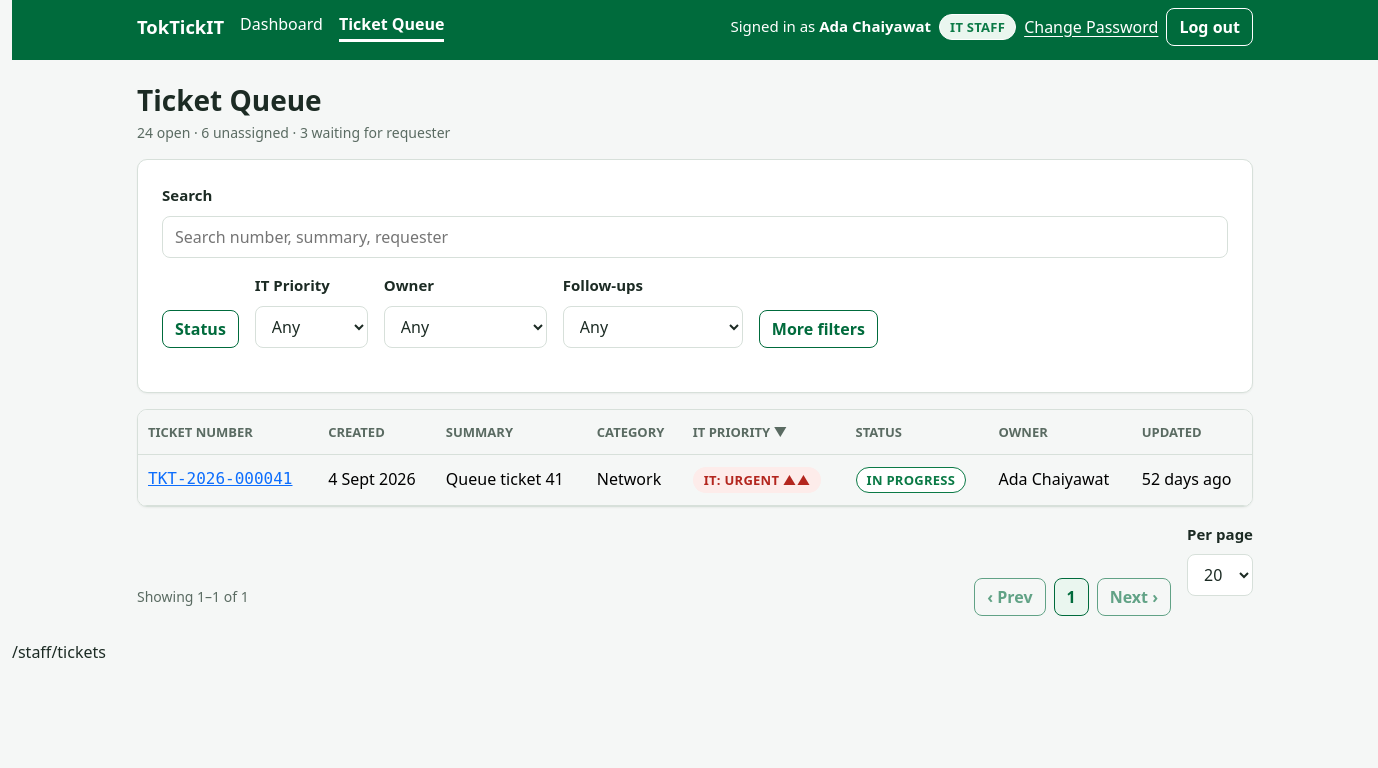
Scenario: Queue states (ui-spec §7.5, FR-22) › shows a failure with Try again and never a stale list
Check: the table is shown, box 138,410 -> 1252,506
Select "LOW" in the dropdown labelled "IT Priority": (311, 327) 255,306 -> 368,348
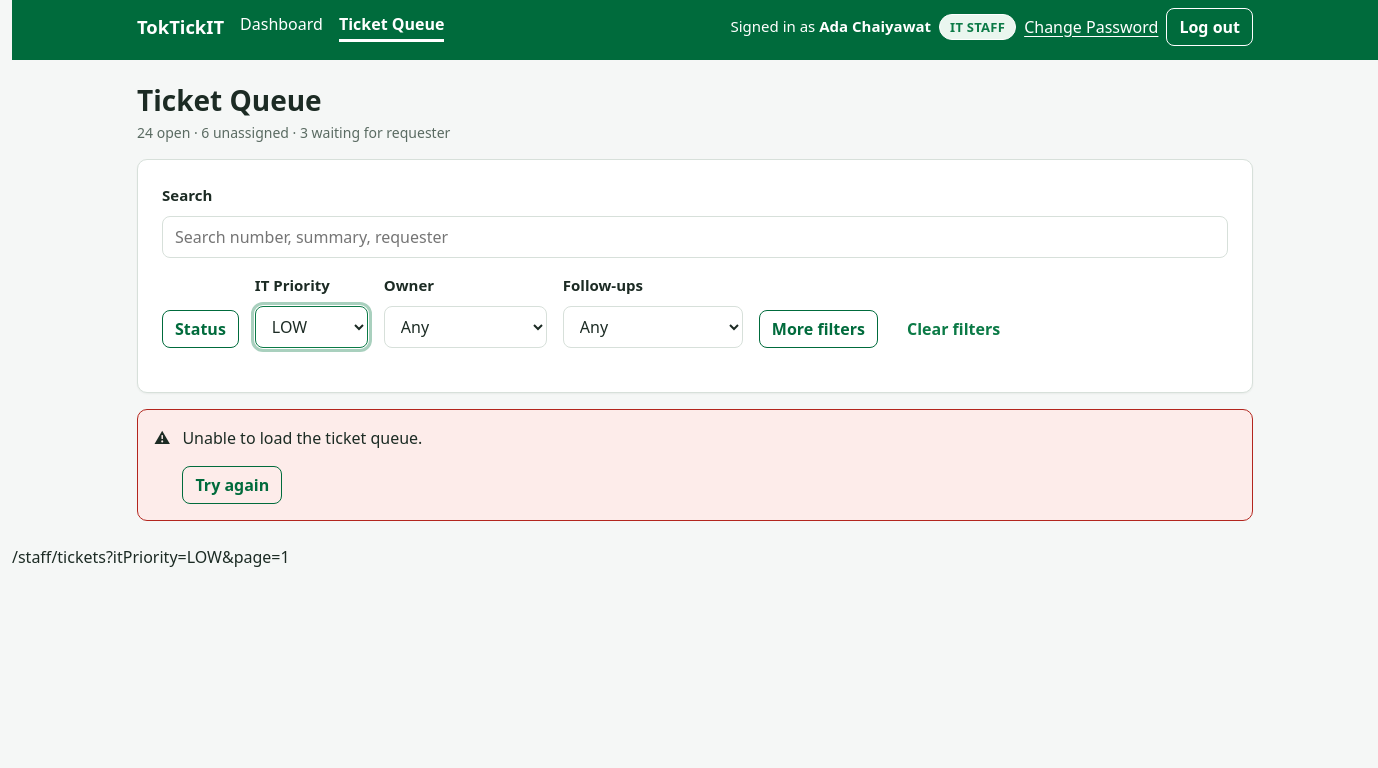
Check: the text "Unable to load the ticket queue." is shown, box 182,426 -> 422,450
Check: the table is gone
Click the button "Try again": (232, 485) 182,466 -> 282,504
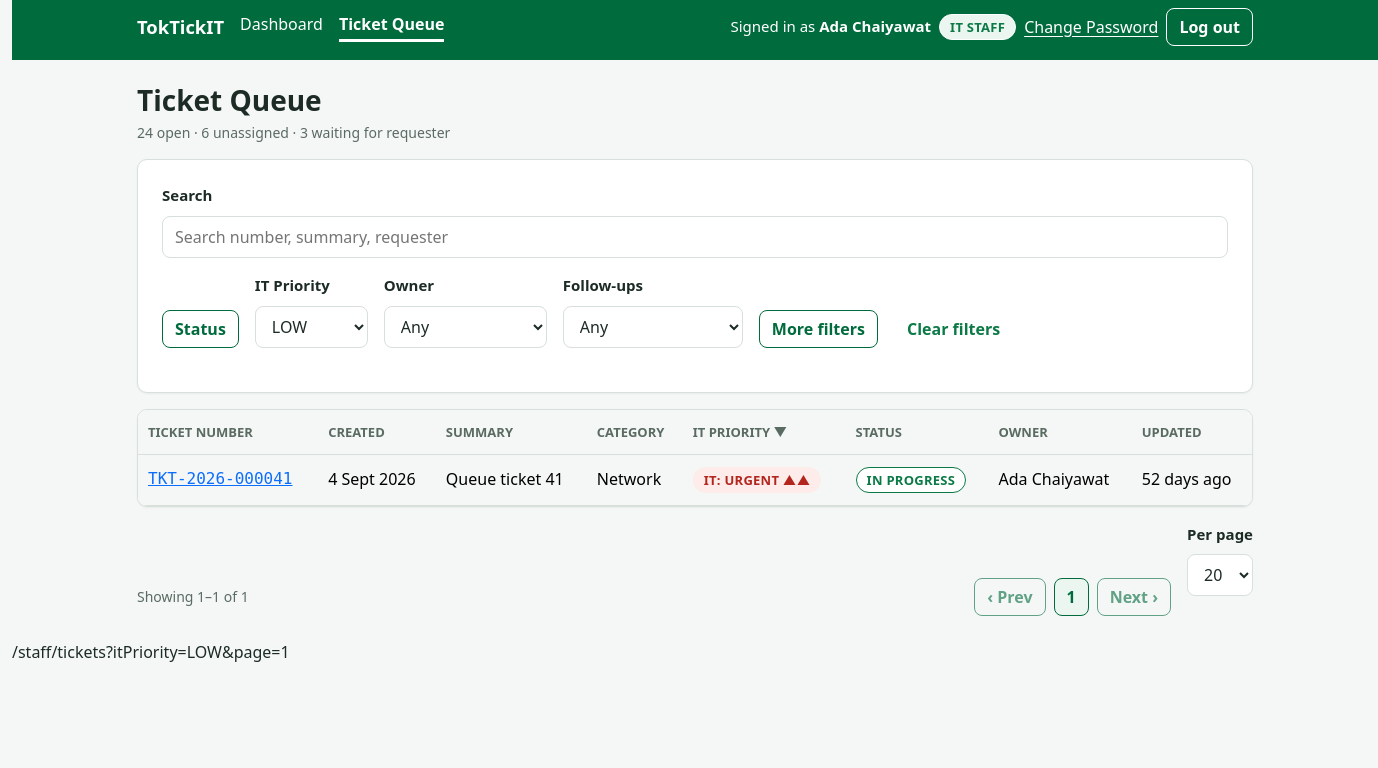
Check: the table is shown, box 138,410 -> 1252,506
